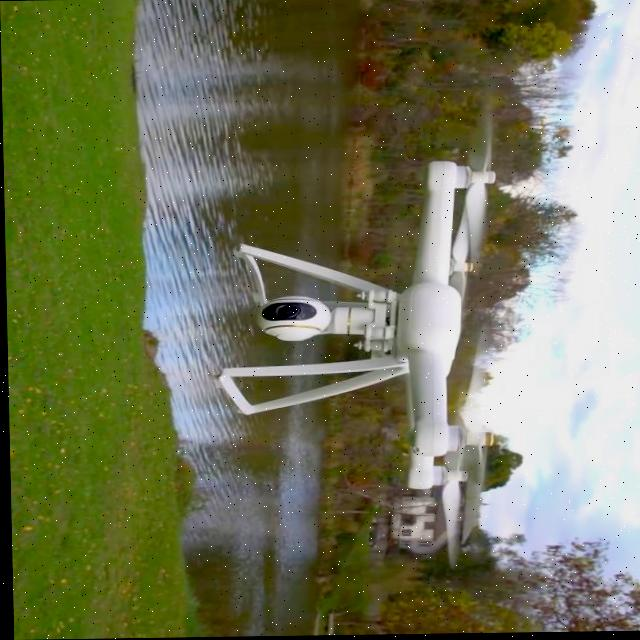drone: (311, 110, 521, 574)
